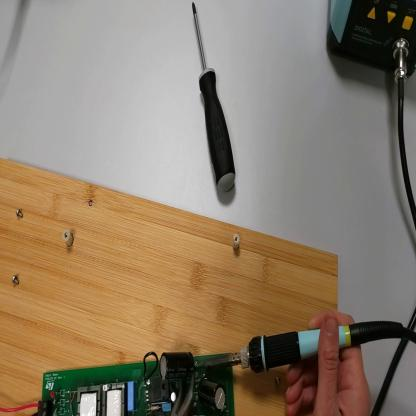hand: (288, 311, 369, 416)
high voltage board: (1, 354, 235, 416)
screwdriver-: (192, 3, 239, 197)
welder probe tip: (196, 305, 407, 378)
welder station: (328, 1, 415, 80)
working area: (3, 161, 340, 412)
